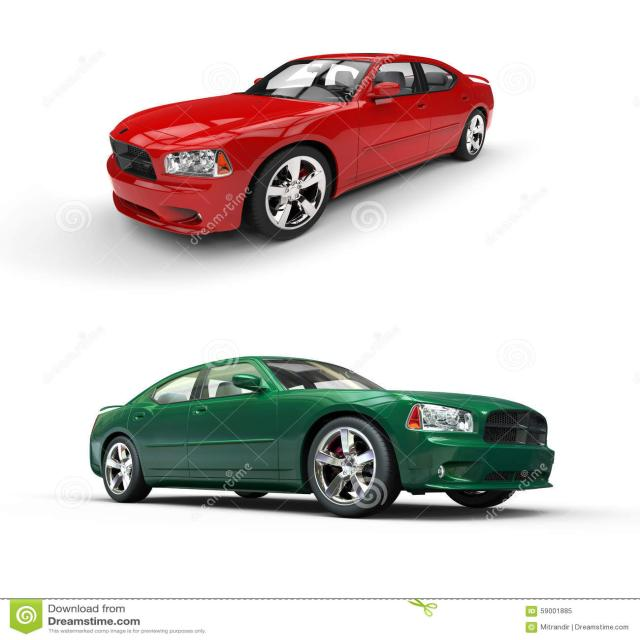Car: (88, 354, 555, 518), (106, 51, 494, 242)
